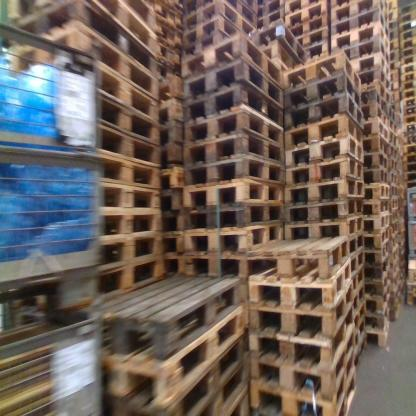pallet: (79, 266, 245, 360), (97, 307, 250, 404), (18, 22, 160, 100), (101, 340, 248, 414), (11, 4, 156, 72), (242, 333, 353, 400), (248, 311, 355, 373), (249, 355, 355, 413), (179, 33, 286, 88), (245, 259, 351, 313), (246, 288, 354, 341), (243, 233, 349, 285), (182, 104, 284, 149), (184, 63, 283, 106), (184, 80, 282, 123), (180, 129, 286, 168), (283, 46, 364, 96), (186, 221, 281, 262), (92, 67, 160, 117), (181, 201, 284, 234), (92, 262, 162, 310), (97, 94, 163, 144), (182, 155, 286, 186), (190, 360, 248, 414), (181, 1, 257, 42), (280, 71, 361, 109), (283, 112, 366, 148), (281, 151, 366, 186), (181, 178, 282, 206), (283, 130, 365, 164), (283, 96, 364, 130), (97, 229, 162, 270), (183, 19, 256, 55), (280, 193, 366, 223), (95, 152, 160, 190), (281, 172, 368, 200), (97, 126, 159, 165), (245, 23, 305, 63), (283, 214, 364, 242), (93, 206, 161, 239), (93, 185, 161, 215), (329, 26, 393, 53), (180, 255, 247, 279), (332, 42, 391, 67), (331, 3, 390, 28), (331, 10, 385, 35), (287, 15, 330, 43), (351, 53, 393, 79), (361, 319, 394, 350), (354, 67, 393, 93), (155, 76, 188, 104), (361, 272, 391, 302), (156, 96, 187, 124), (285, 3, 328, 23), (362, 223, 391, 252), (361, 302, 392, 329), (358, 286, 391, 311), (255, 9, 285, 36), (158, 122, 189, 146), (356, 133, 389, 155), (362, 116, 389, 142), (159, 258, 184, 286), (360, 81, 393, 102), (160, 235, 193, 256), (254, 0, 283, 23), (160, 165, 185, 191), (339, 379, 357, 415), (160, 191, 188, 214), (359, 151, 389, 172), (360, 212, 390, 233), (343, 231, 367, 257), (361, 103, 388, 126), (158, 142, 185, 165), (360, 164, 388, 186), (160, 213, 188, 235), (295, 33, 329, 51), (361, 258, 390, 279), (299, 42, 328, 63), (361, 180, 390, 200), (363, 244, 391, 264), (347, 247, 366, 275), (286, 1, 324, 15), (362, 200, 390, 218), (349, 266, 366, 294), (360, 93, 388, 110), (353, 339, 366, 375), (350, 282, 364, 312), (354, 316, 366, 351), (229, 393, 248, 415), (352, 299, 364, 332), (403, 283, 415, 306), (239, 1, 258, 13), (389, 131, 397, 159), (390, 270, 400, 291), (390, 261, 401, 280), (386, 105, 397, 123), (391, 290, 402, 307), (388, 223, 397, 240), (388, 120, 397, 136), (389, 236, 398, 252), (390, 250, 398, 268), (387, 158, 398, 169), (390, 209, 398, 223), (389, 186, 398, 198), (389, 170, 396, 184), (390, 198, 398, 209)
stillage: (1, 21, 110, 331), (4, 304, 105, 415), (405, 186, 416, 253)
